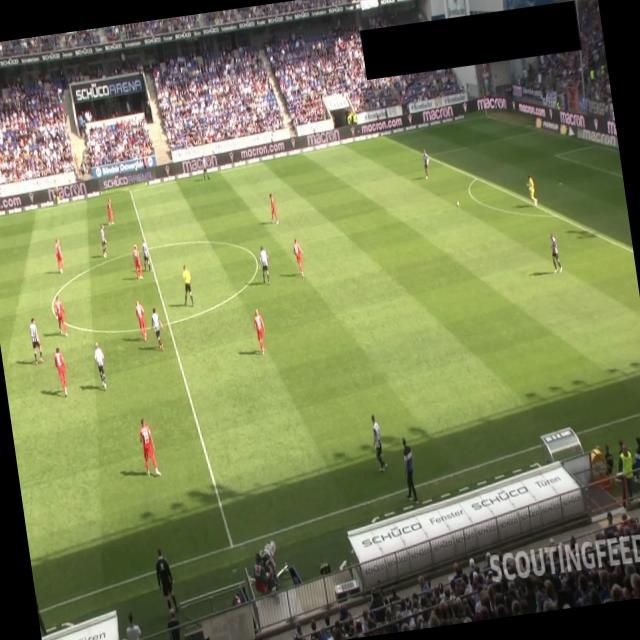ball: (456, 200, 460, 208)
goalkeeper: (524, 174, 538, 208)
player: (137, 416, 162, 478), (368, 412, 389, 472), (52, 346, 72, 398), (148, 306, 168, 352), (92, 341, 110, 392), (28, 316, 45, 366), (252, 308, 268, 356), (53, 295, 69, 338), (548, 231, 564, 274), (258, 244, 274, 286), (292, 236, 308, 278), (134, 300, 149, 344), (53, 238, 66, 274), (132, 243, 144, 281), (98, 223, 110, 259), (140, 238, 152, 272), (268, 192, 280, 225), (104, 197, 116, 226), (422, 147, 432, 180), (201, 156, 211, 182)
referee: (179, 263, 195, 308), (52, 178, 62, 206)
